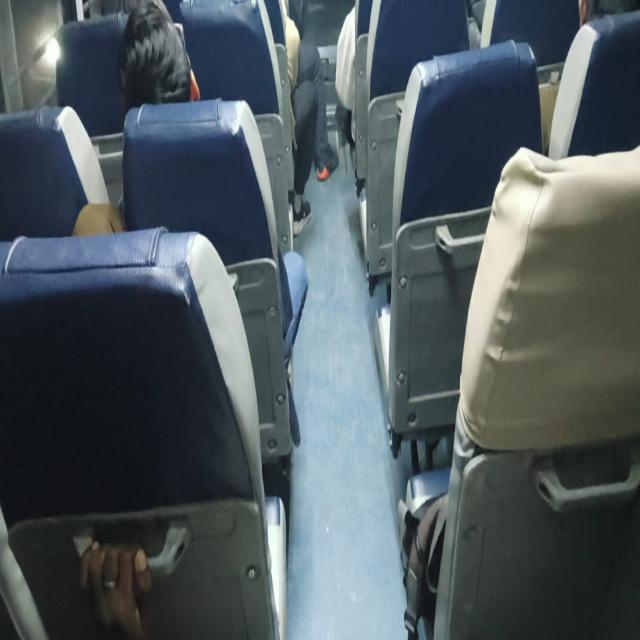person: (129, 15, 203, 94), (566, 0, 640, 31), (71, 0, 124, 30)
